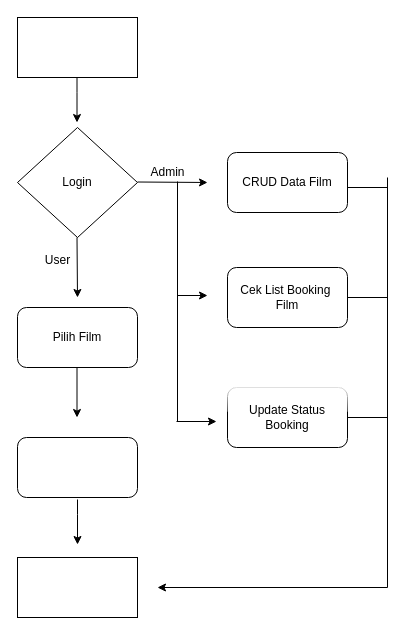
The diagram is 413 pixels wide and 635 high, and some of its shapes have lost their labels. The centre of each missing label's shape, as x and y in pixels:
END: (x=77, y=587)
Pilih Kursi (Database Transaction): (x=77, y=467)
Start: (x=77, y=47)
